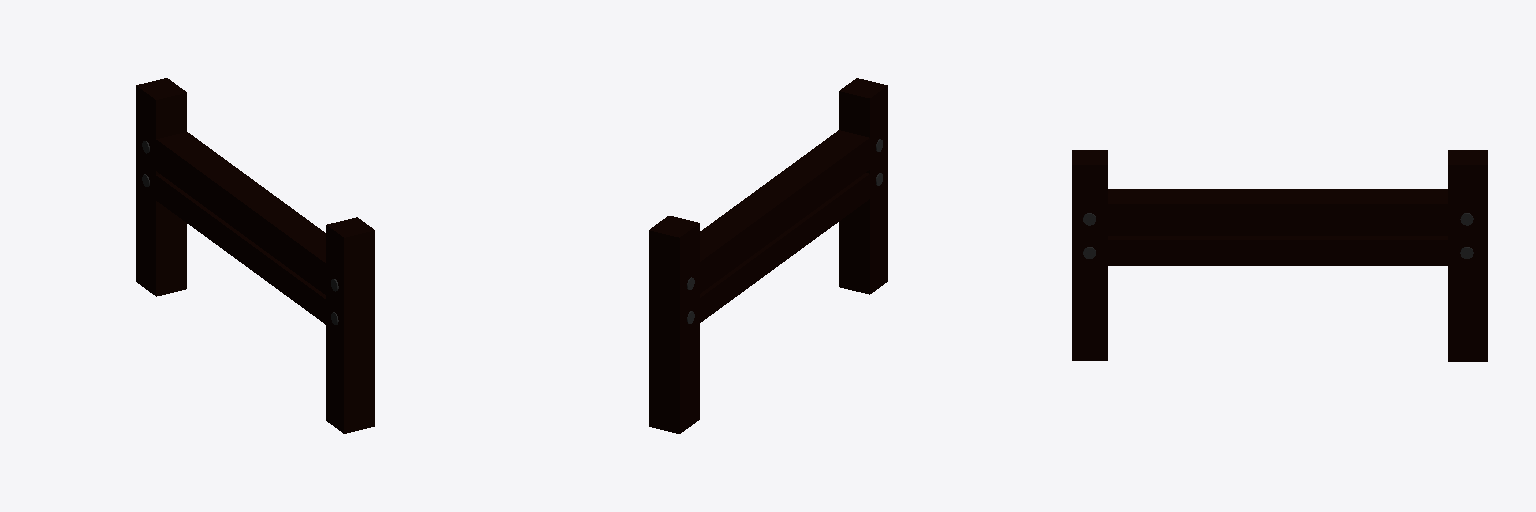
File: fence.obj
3 renders of one model, left to right at view 1: azimuth 30°, elevation 25°; view 2: azimuth 150°, elevation 25°; view 3: azimuth 270°, elevation 25°, orthographic.
Parts seen in each view (by area): view 1: Cube_Cube.001; view 2: Cube_Cube.001; view 3: Cube_Cube.001.
Part boxes in pixels (bbox=[...]): Cube_Cube.001: bbox=[136, 78, 374, 433]; Cube_Cube.001: bbox=[649, 78, 887, 433]; Cube_Cube.001: bbox=[1072, 150, 1487, 361].
Size of the model in its own units: 2.18 by 12.07 by 23.18.